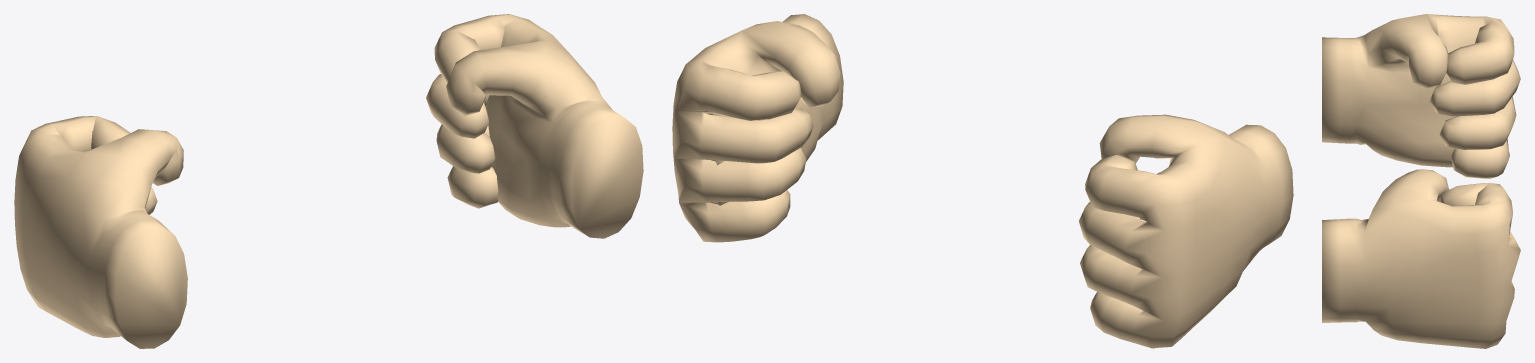
File: hands 1.fbx
3 views of the same model, side by side, from view 1: azimuth 30°, elevation 25°; view 2: azimuth 150°, elevation 25°; view 3: azimuth 270°, elevation 25° (orthographic). The views are drawn at different scales.
Parts seen in each view (by area): view 1: hand_right, hand_left; view 2: hand_left, hand_right; view 3: hand_right, hand_left.
Boxes of the visible parts, x1,y1,x2,y2 form: hand_right: (426, 14, 643, 238); hand_left: (14, 116, 187, 348); hand_left: (1079, 114, 1293, 348); hand_right: (672, 14, 843, 242); hand_right: (1322, 169, 1520, 348); hand_left: (1322, 14, 1520, 178).
Size of the model in its own units: 34.49 by 12.03 by 13.72.
1 material, 1 textured.
